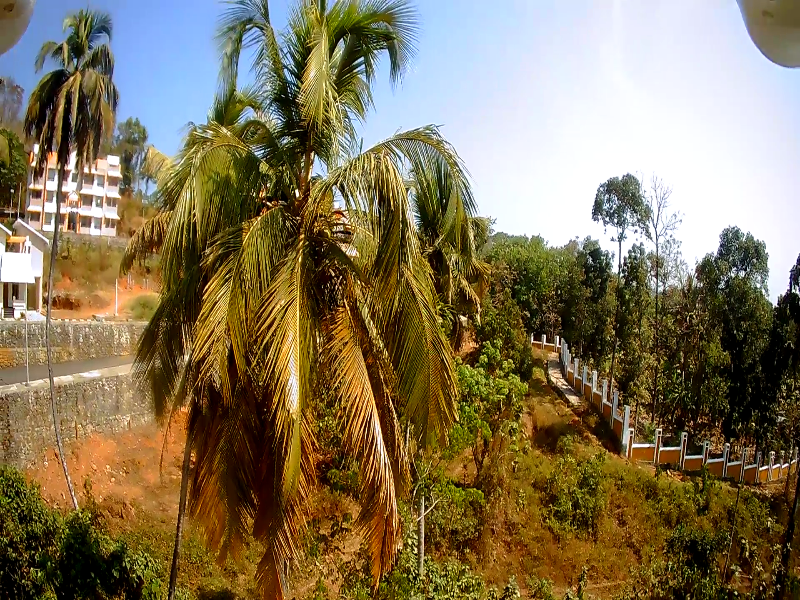coconut: (317, 225, 334, 241)
